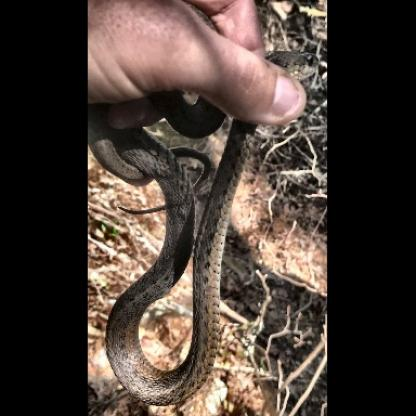Snake: (84, 120, 254, 408)
